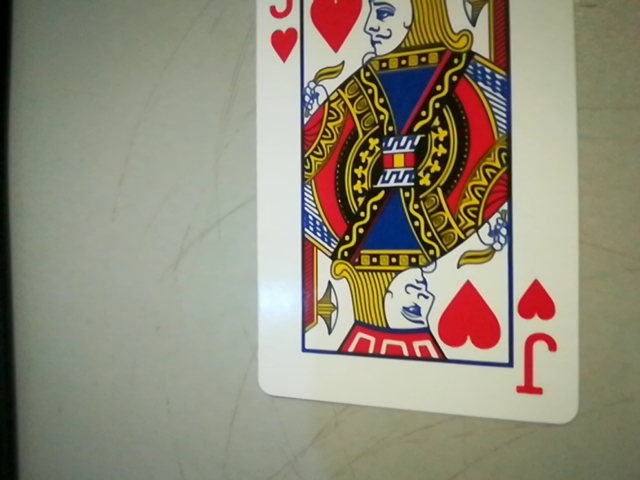hx j: (508, 275, 572, 404)
